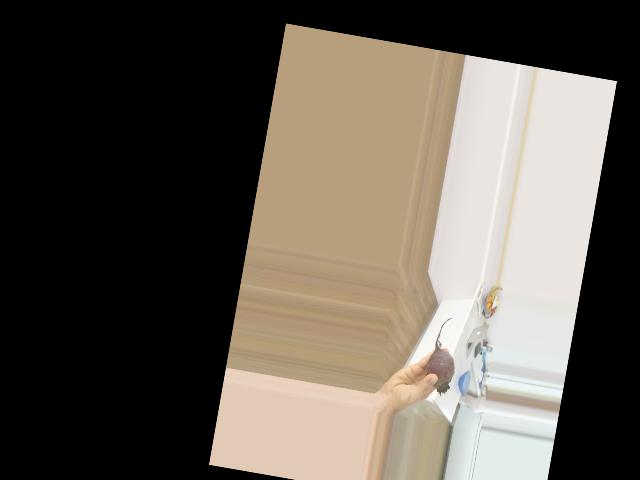beet: (422, 314, 463, 396)
